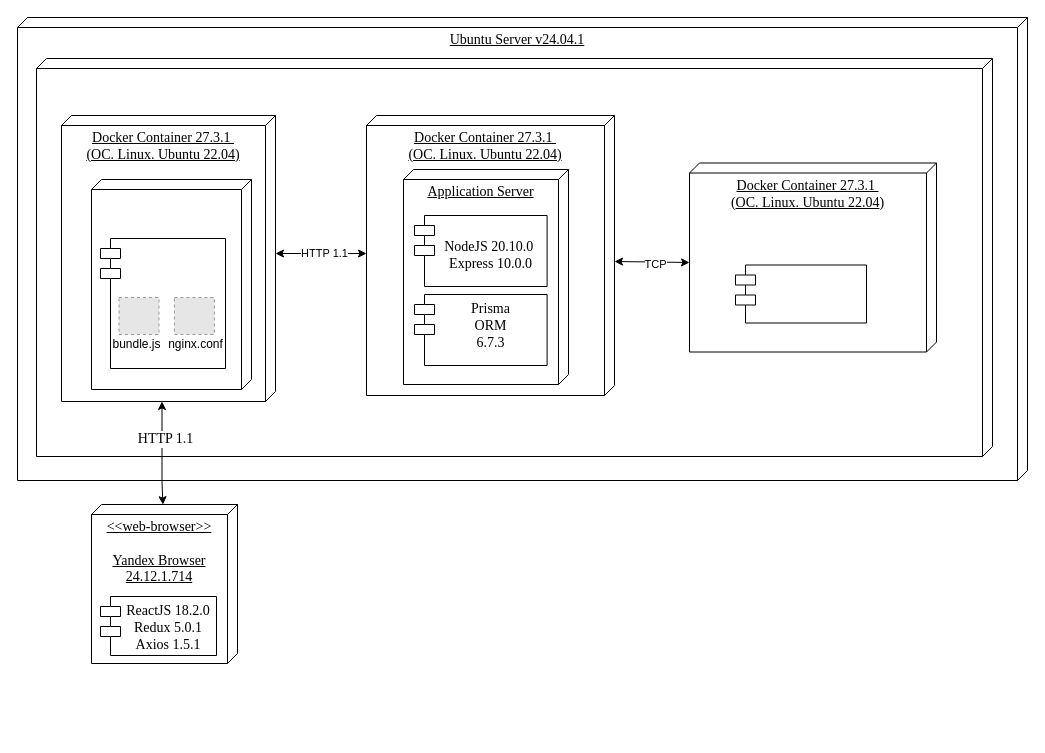
This 1045x753 diagram has some shape labels left out. Grey dashed boxes stand in for pictures. The box of each missing label's shape, as (x1, y1, x2, y2) in pixels:
Docker Compose 27.3.1: (36, 58, 992, 456)
nginx 1.27.3: (100, 238, 226, 368)
PostgreSQL 16.1: (734, 264, 866, 323)
Web server: (90, 178, 252, 390)
